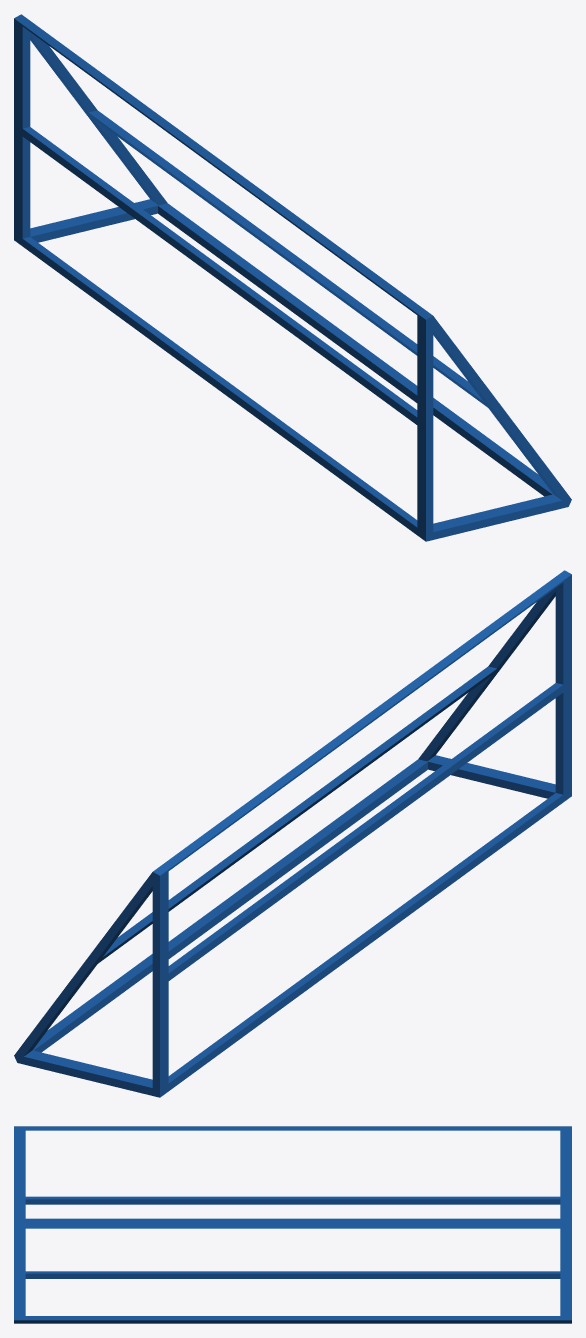
Rendered from suport.obj.
3 renders of one model, top to bottom at view 1: azimuth 30°, elevation 25°; view 2: azimuth 150°, elevation 25°; view 3: azimuth 270°, elevation 25°, orthographic. The views are drawn at different scales.
Visible parts, largest first — view 1: 5dc09b44d93e4815c9e9cb4c_ID3; view 2: 5dc09b44d93e4815c9e9cb4c_ID3; view 3: 5dc09b44d93e4815c9e9cb4c_ID3.
Part boxes in pixels (x1=…): 5dc09b44d93e4815c9e9cb4c_ID3: x1=14, y1=14, x2=571, y2=541; 5dc09b44d93e4815c9e9cb4c_ID3: x1=14, y1=570, x2=571, y2=1097; 5dc09b44d93e4815c9e9cb4c_ID3: x1=14, y1=1126, x2=571, y2=1323.
Bounding box in the file's own units: 0.3889 × 0.5706 × 1.9.
